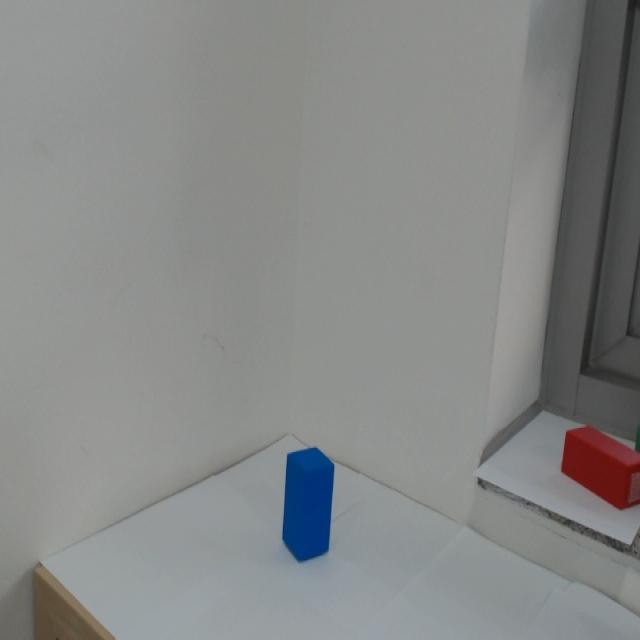cube: (278, 422, 344, 593)
